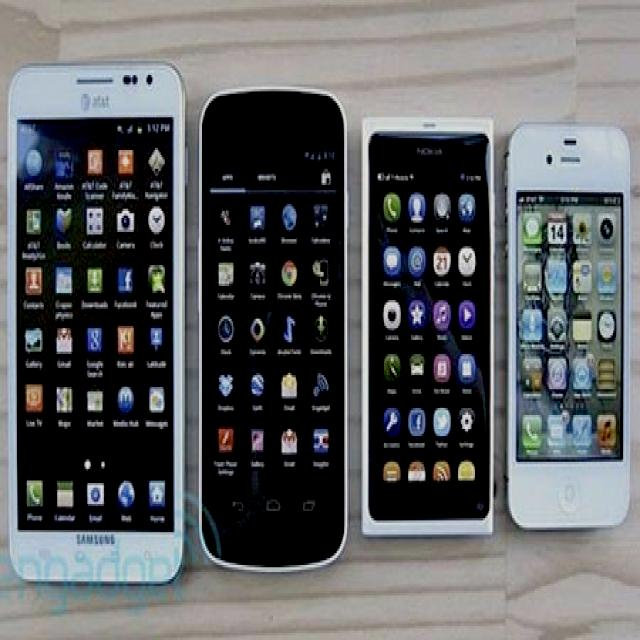phone: (8, 65, 188, 588), (194, 82, 346, 567), (360, 112, 498, 540), (507, 121, 627, 525)
